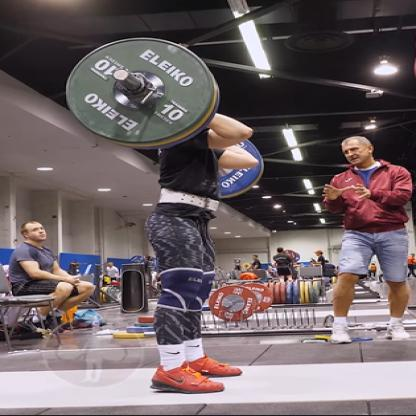Barbell: (58, 31, 225, 156)
